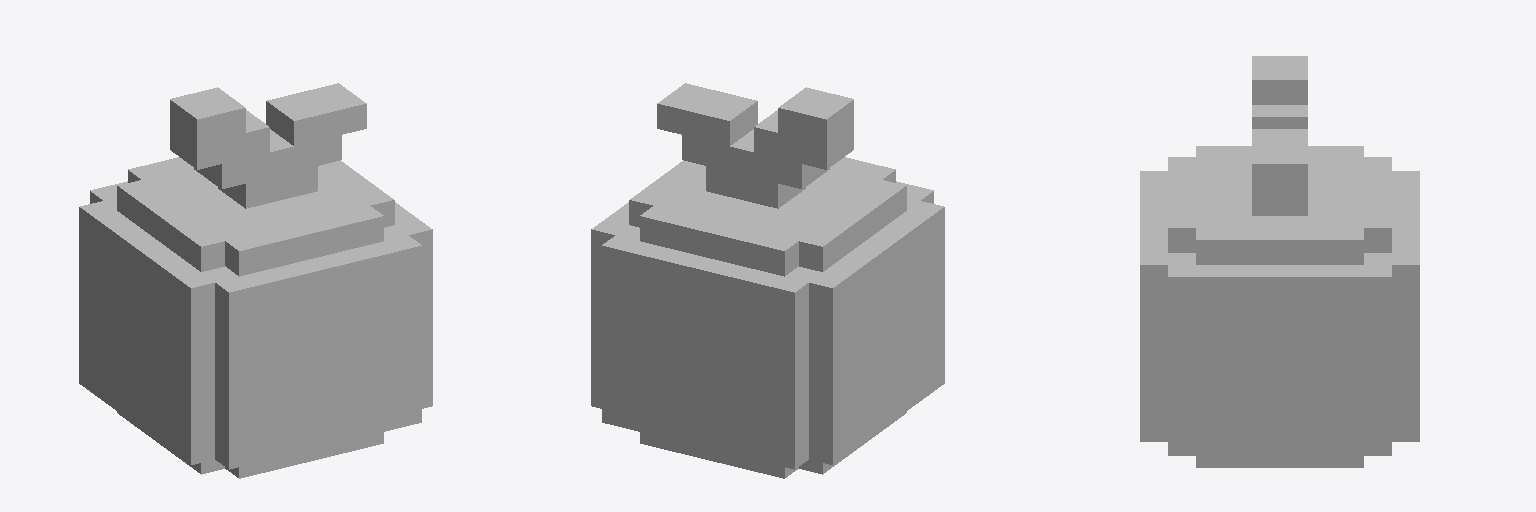
The model's file is Apple.obj.
The picture shows the model from 3 angles: view 1: azimuth 30°, elevation 25°; view 2: azimuth 150°, elevation 25°; view 3: azimuth 270°, elevation 25°; orthographic projection.
Visible parts, largest first — view 1: object 1; view 2: object 1; view 3: object 1.
Boxes of the visible parts, box(x1,y1,x2,y2) form: object 1: box(79, 83, 432, 478); object 1: box(591, 83, 944, 478); object 1: box(1140, 56, 1419, 467).
Size of the model in its own units: 1 by 1.3 by 1.